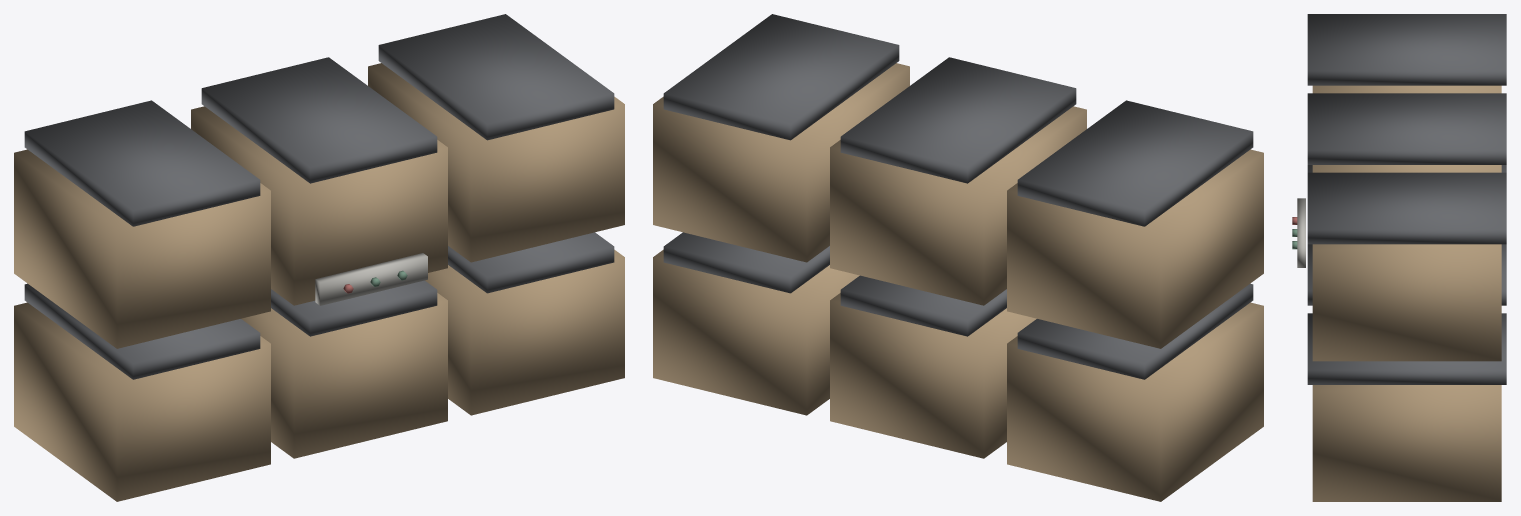
The model's file is market_produce_rack__deep.glb.
3 renders of one model, left to right at view 1: azimuth 30°, elevation 25°; view 2: azimuth 150°, elevation 25°; view 3: azimuth 270°, elevation 25°, orthographic. The views are drawn at different scales.
Visible parts, largest first — view 1: world; view 2: world; view 3: world.
Boxes of the visible parts, x1,y1,x2,y2 form: world: [14, 14, 624, 501]; world: [653, 14, 1263, 501]; world: [1292, 14, 1506, 501].
Bounding box in the file's own units: 1.32 × 0.72 × 0.5258.
